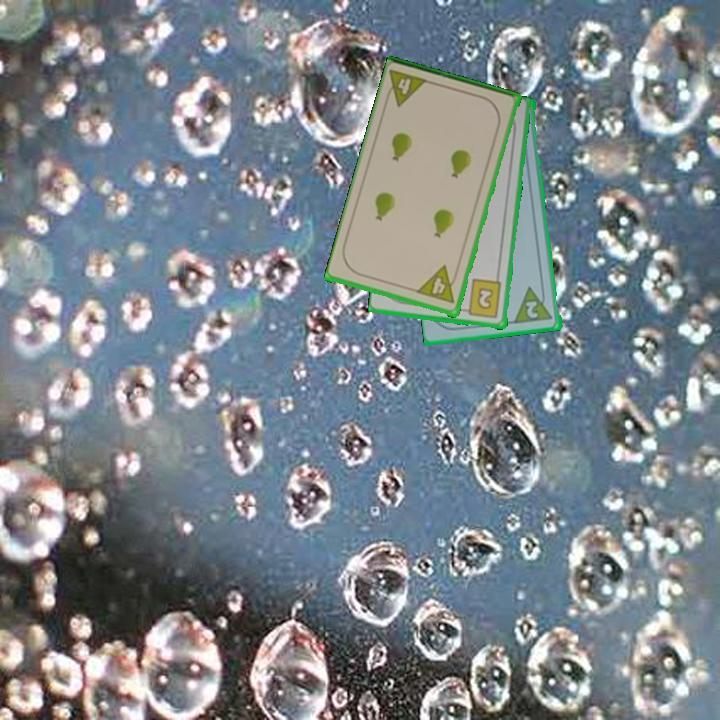2b: (459, 276, 504, 321)
2p: (512, 283, 556, 327)
4p: (381, 66, 432, 110), (414, 263, 462, 307)
